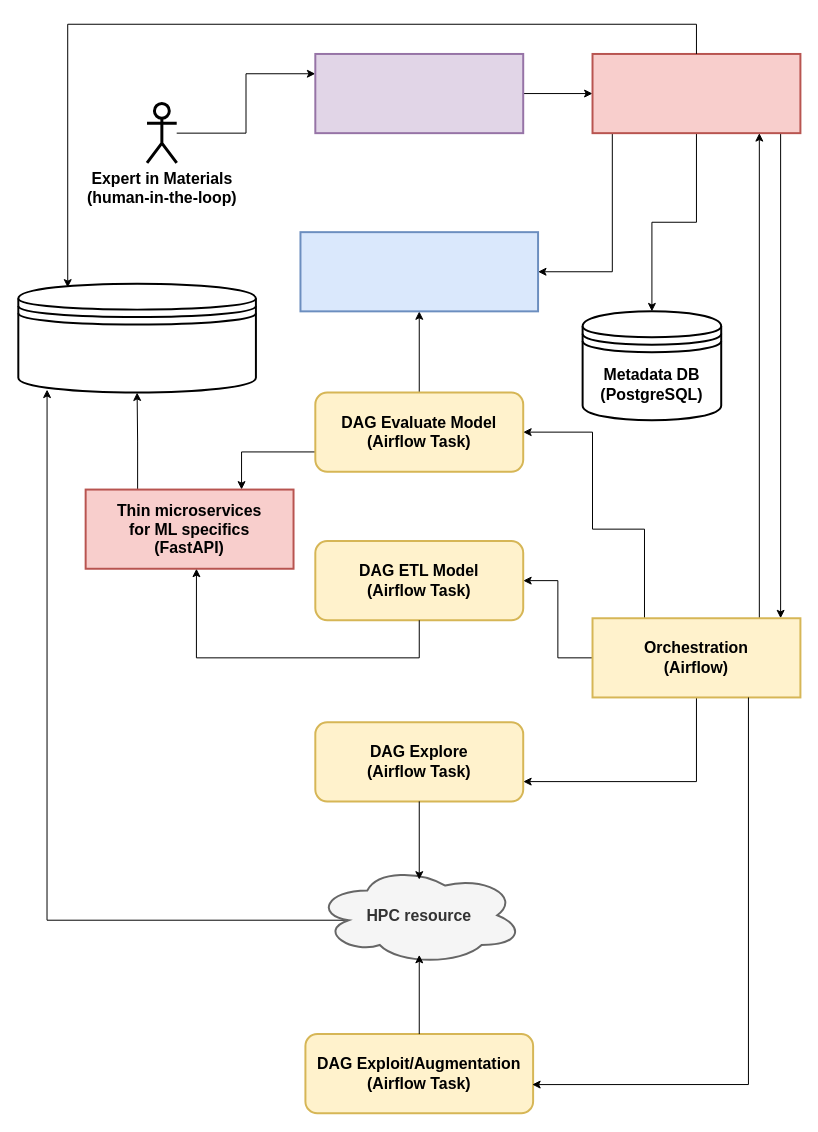
The diagram is 818 pixels wide and 1132 high, and some of its shapes have lost their labels. Here are the shapes that lost their labels. From the top down, the centre of each, then its label:
[419,93]: MLOps front-end (Angular)
[696,93]: MLOps back-end (Spring Framework)
[419,271]: Experiment Tracking and Model Registry (MLflow)
[136,337]: Simulation Outputs and DBIs (MinIO/S3)
